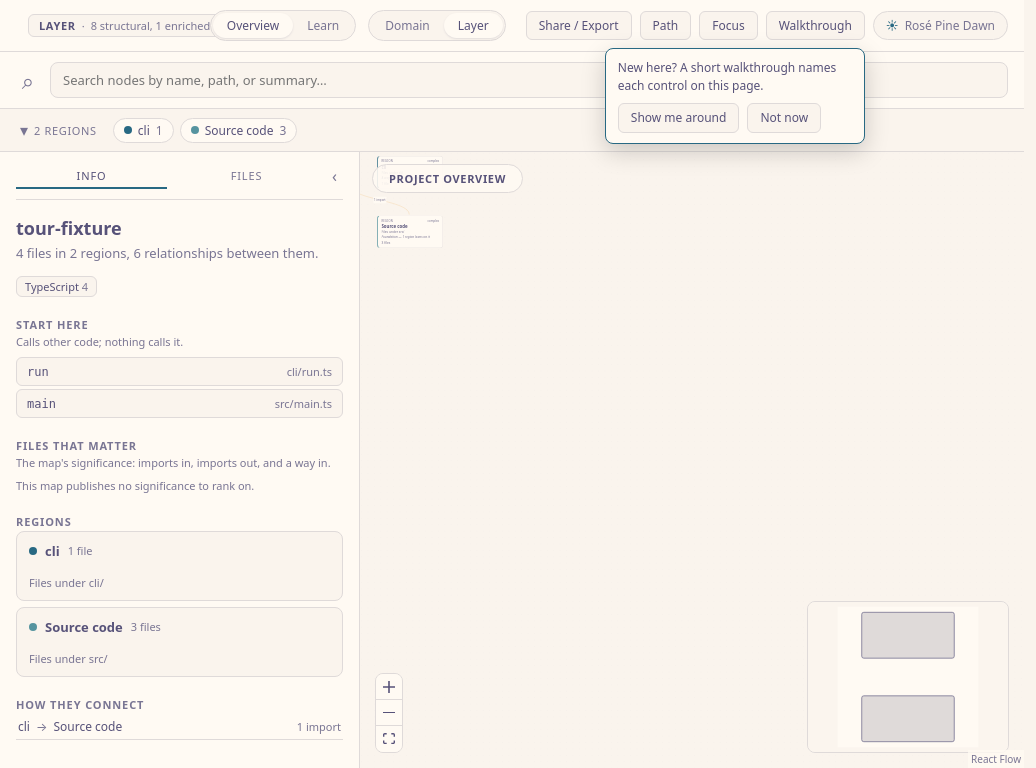
Test: the codebase tour › badges each label's provenance, mechanical and enriched alike
The width and height of the screenshot is (1036, 768).
Click the radio button labelled "Learn" at (323, 26), box [293,13,353,38]
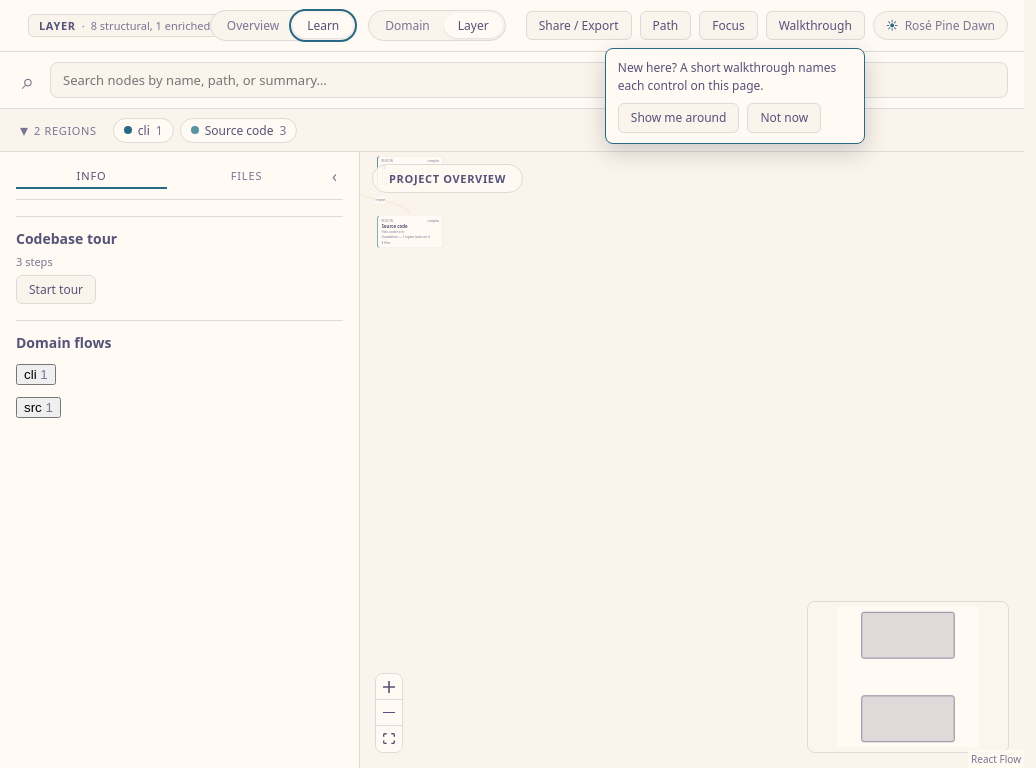
Click the button "Start tour" at (56, 290), box [16,275,96,304]
(page scrolled)
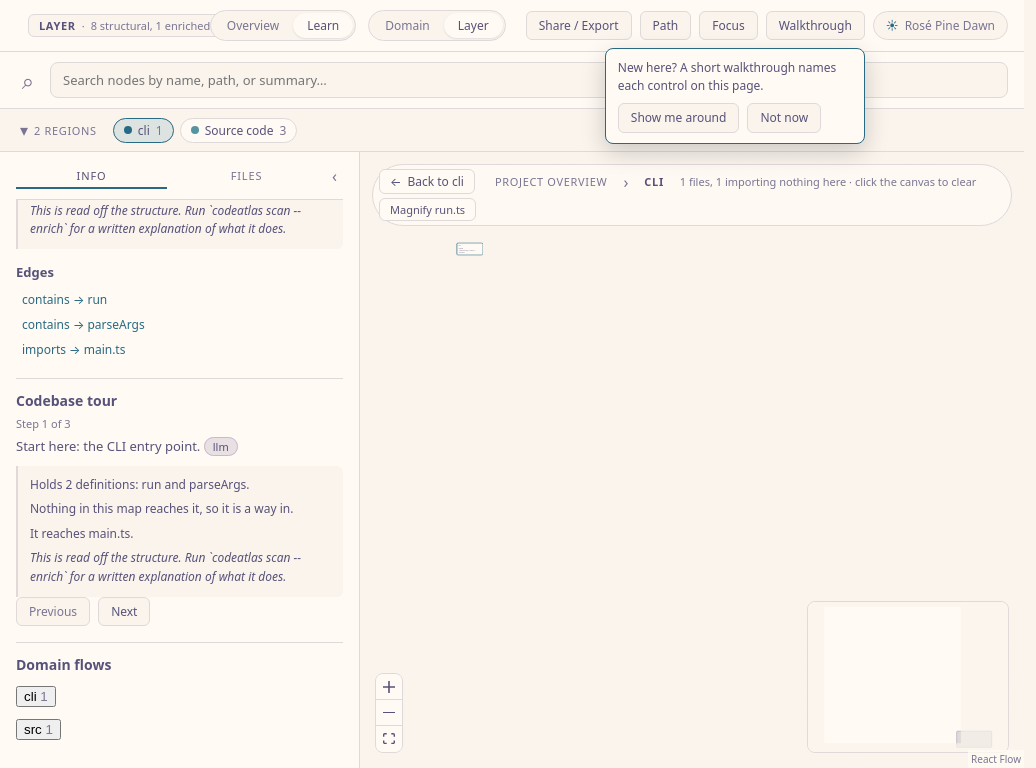
Result: the text with test id "provenance-badge" reads "llm" at [213,439,229,454]
Click the button "Next" at (124, 611), box [98,597,150,626]
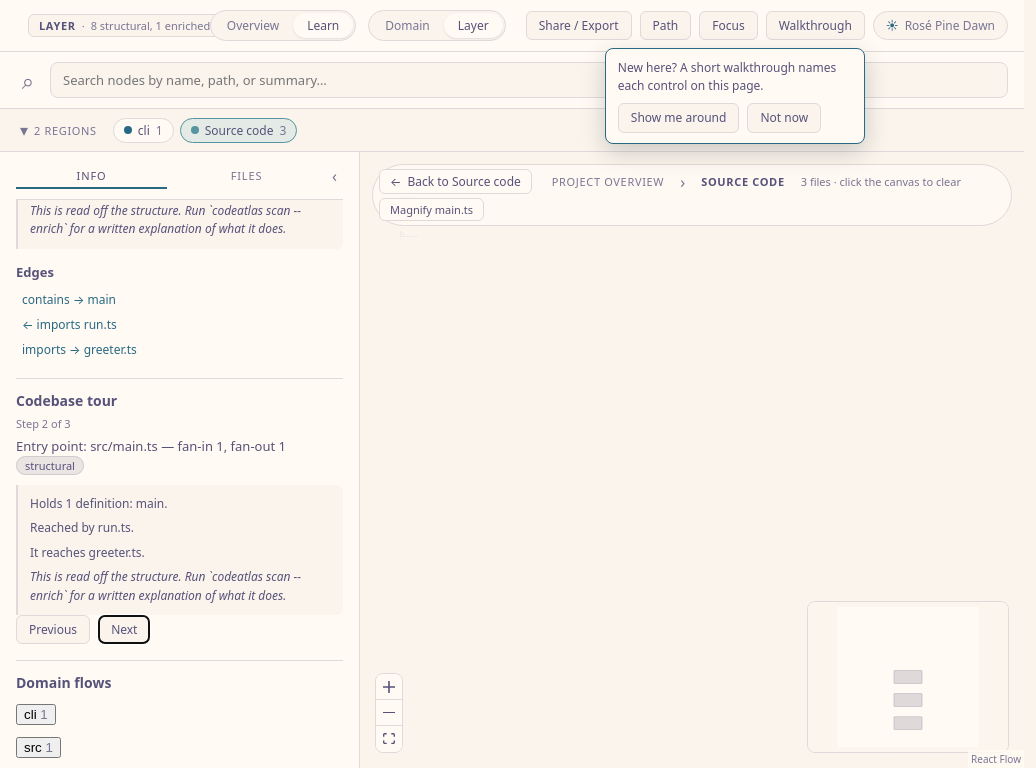
Result: the text with test id "provenance-badge" reads "structural" at [25,458,75,473]
